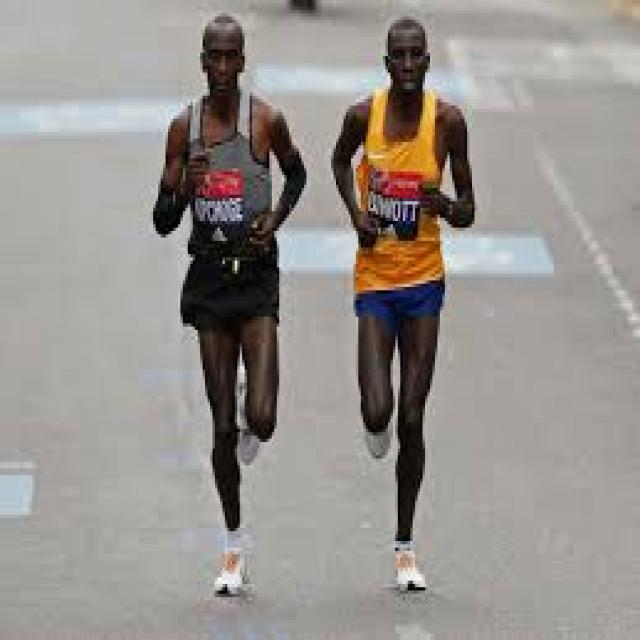running: (150, 9, 309, 602), (328, 13, 476, 595)
